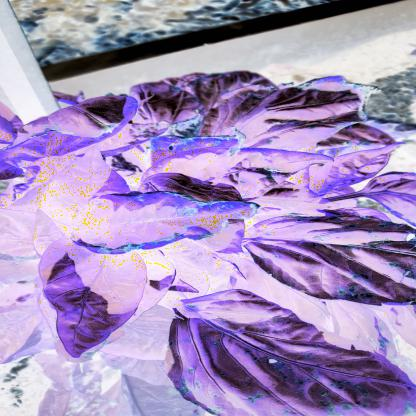Bell_pepper leaf spot: (164, 289, 409, 416), (250, 214, 416, 305), (64, 188, 268, 257), (230, 73, 387, 144), (139, 130, 259, 181), (47, 95, 139, 140)
